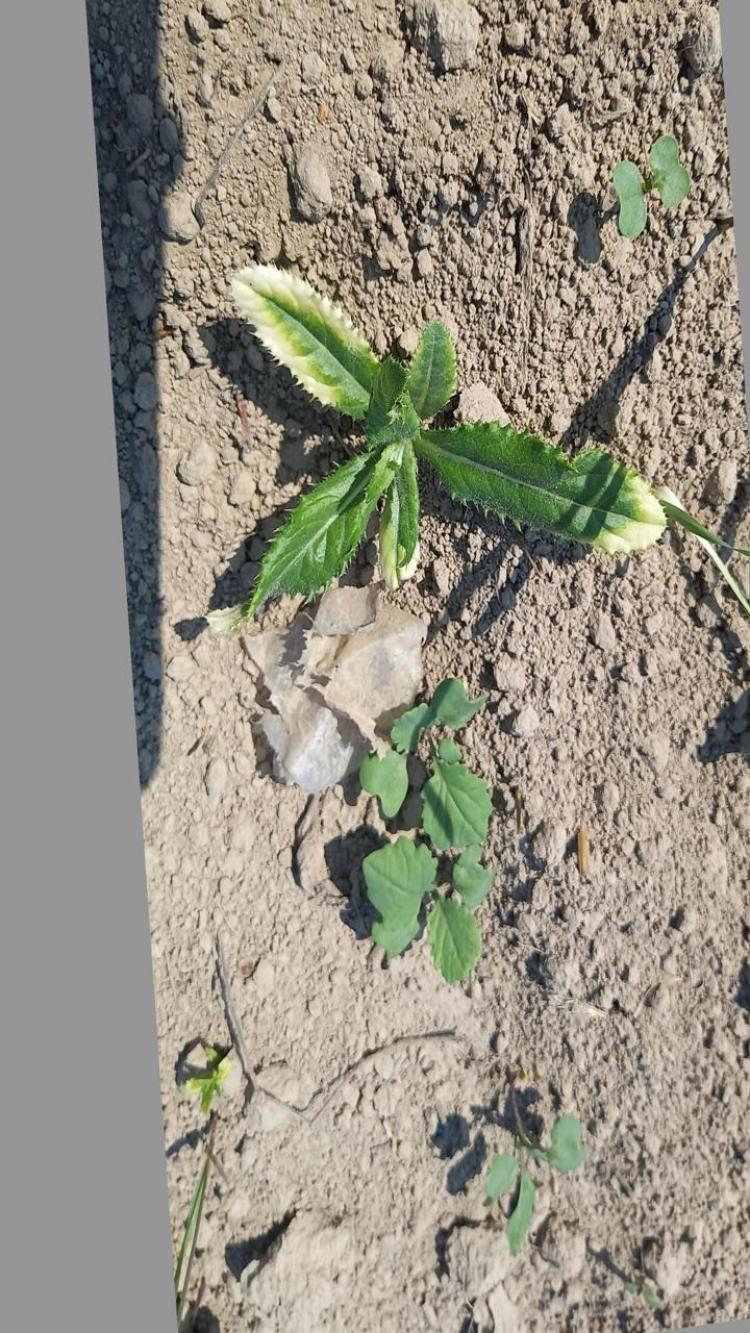bodyak: (223, 266, 660, 614)
